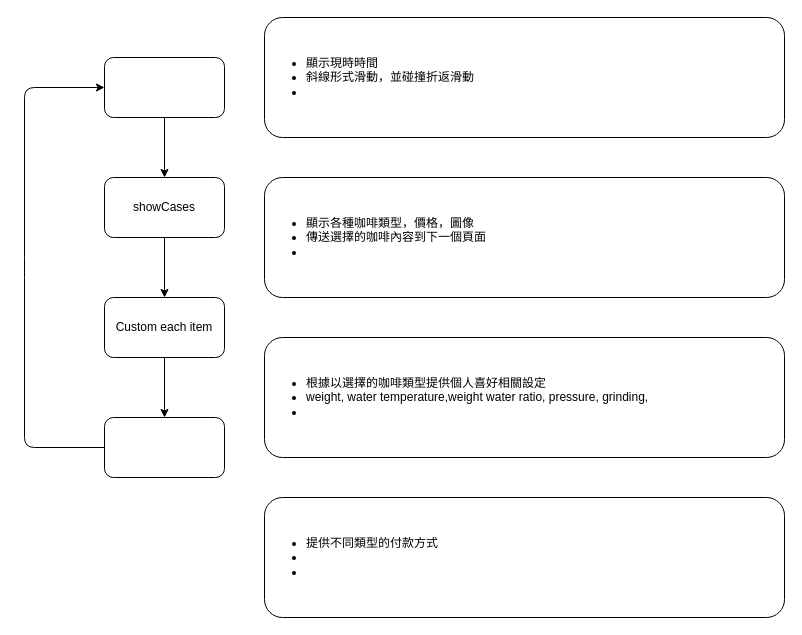
This 802x635 diagram has some shape labels left out. Here are the shapes that lost their labels. From the top down, the centre of each, then its label:
At point 164,87: "home page".
At point 164,447: "payment".
